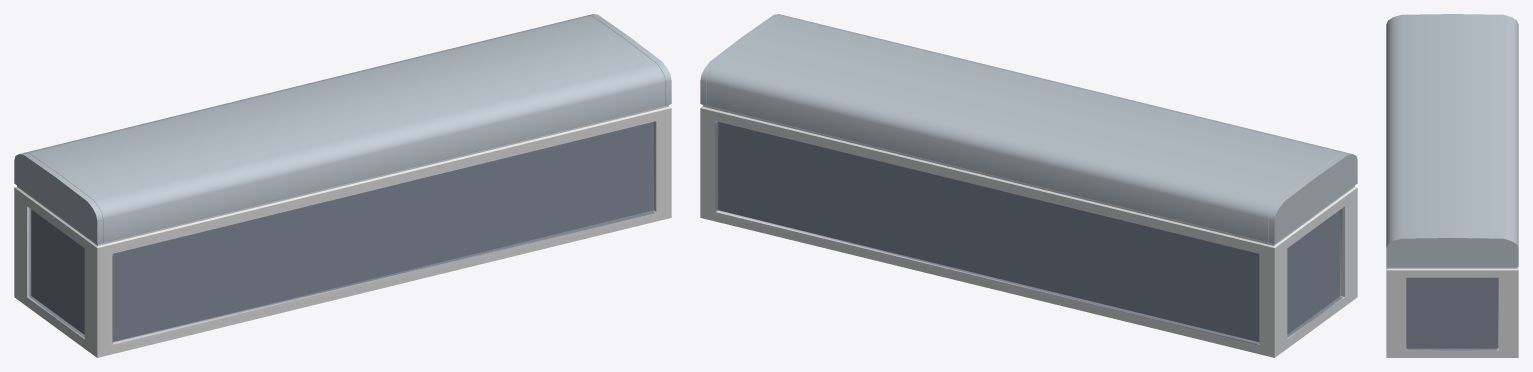
Rendered from Chair4.fbx.
The picture shows the model from 3 angles, left to right: view 1: azimuth 30°, elevation 25°; view 2: azimuth 150°, elevation 25°; view 3: azimuth 270°, elevation 25°; orthographic projection. The views are drawn at different scales.
Parts seen in each view (by area): view 1: SM_Couch_Rectangle; view 2: SM_Couch_Rectangle; view 3: SM_Couch_Rectangle.
Part boxes in pixels (left/top/right/bottom): SM_Couch_Rectangle: left=14, top=14, right=671, bottom=357; SM_Couch_Rectangle: left=700, top=14, right=1357, bottom=357; SM_Couch_Rectangle: left=1386, top=14, right=1518, bottom=357.
Size of the model in its own units: 256 by 64 by 64.
